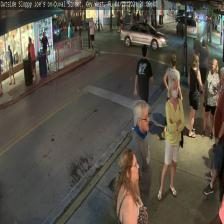person: (133, 44, 154, 128), (163, 54, 183, 138), (188, 54, 202, 138)
